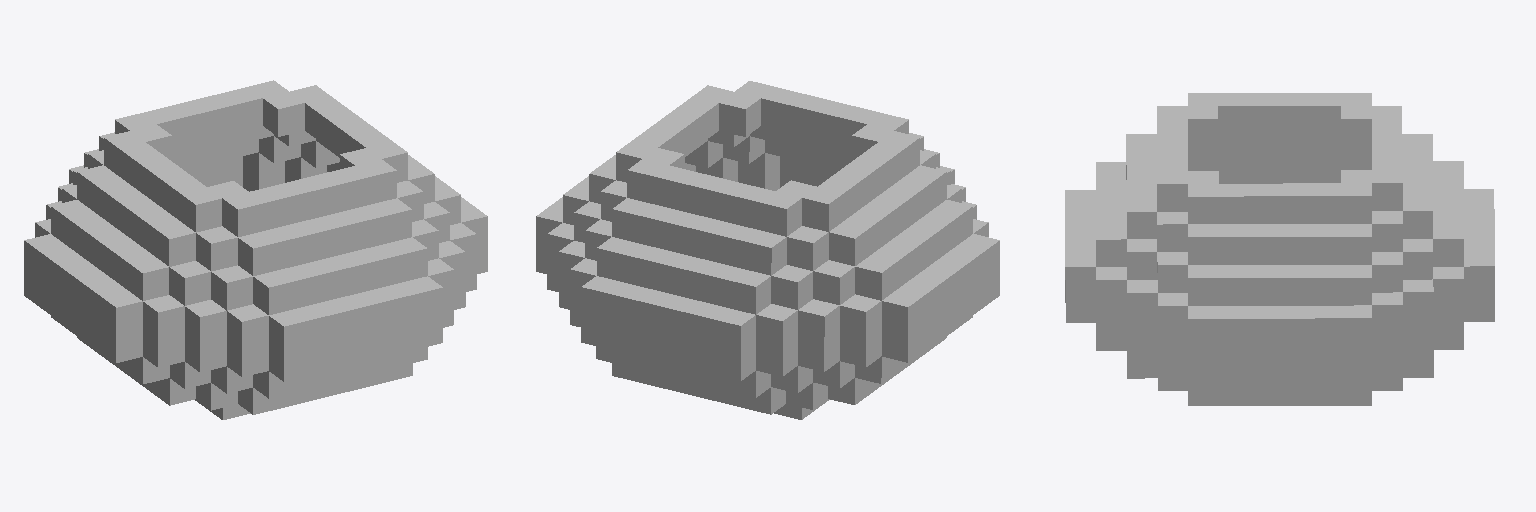
Rendered from ink_jar.obj.
The picture shows the model from 3 angles: view 1: azimuth 30°, elevation 25°; view 2: azimuth 150°, elevation 25°; view 3: azimuth 270°, elevation 25°; orthographic projection.
Visible parts, largest first — view 1: cube; view 2: cube; view 3: cube.
Part boxes in pixels (bbox=[...]): cube: bbox=[24, 80, 487, 419]; cube: bbox=[536, 81, 999, 419]; cube: bbox=[1065, 93, 1494, 405].
Bounding box in the file's own units: 14.01 × 8.02 × 14.01.